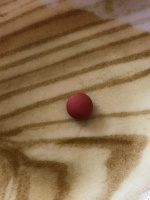Dolorex: (66, 92, 94, 122)
